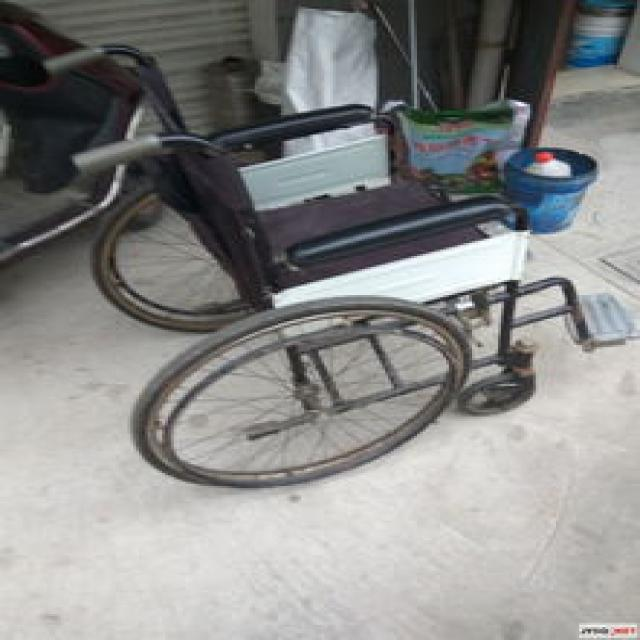wheelchair: (35, 39, 638, 494)
